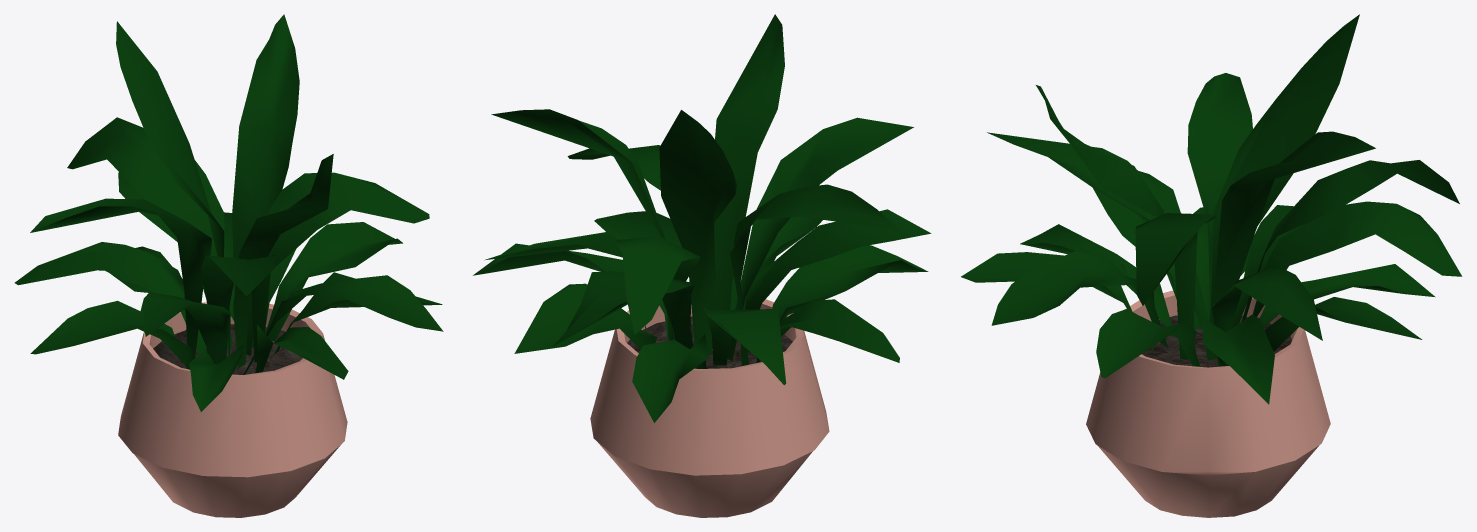
The model's file is flower4.glb.
The picture shows the model from 3 angles, left to right: view 1: azimuth 30°, elevation 25°; view 2: azimuth 150°, elevation 25°; view 3: azimuth 270°, elevation 25°; orthographic projection. The views are drawn at different scales.
Visible parts, largest first — view 1: asoidistra elatior leaf.040, pot geometric.002, pot soil.012; view 2: asoidistra elatior leaf.040, pot geometric.002, pot soil.012; view 3: asoidistra elatior leaf.040, pot geometric.002, pot soil.012.
Boxes of the visible parts, bbox=[...] form: asoidistra elatior leaf.040: bbox=[14, 14, 443, 411]; pot geometric.002: bbox=[118, 302, 347, 517]; pot soil.012: bbox=[153, 324, 302, 374]; asoidistra elatior leaf.040: bbox=[473, 14, 931, 422]; pot geometric.002: bbox=[590, 299, 829, 517]; pot soil.012: bbox=[627, 316, 792, 368]; asoidistra elatior leaf.040: bbox=[961, 14, 1462, 404]; pot geometric.002: bbox=[1086, 290, 1330, 517]; pot soil.012: bbox=[1142, 315, 1292, 367].
Bounding box in the file's own units: 1.76 × 1.82 × 1.83.
Materials: 3 (1 with a texture image).
